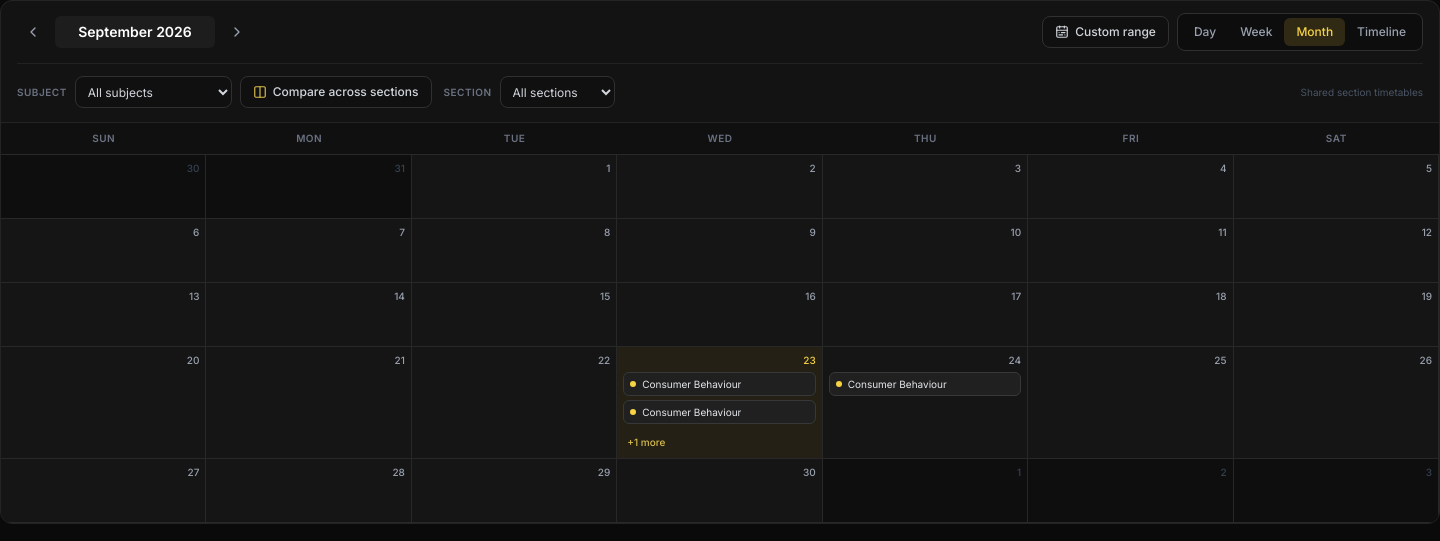
Test case: E2E Shared Academic Calendars: Frontend Test Suite › F11: UI States (Loading, Empty, Retry) › 11.2: Empty state displays appropriate message when no sessions exist for selected section
// Select Section H where no events exist
Step 1. Select "Section H" in the dropdown labelled "Section" → (557, 92), box [500,76,615,108]
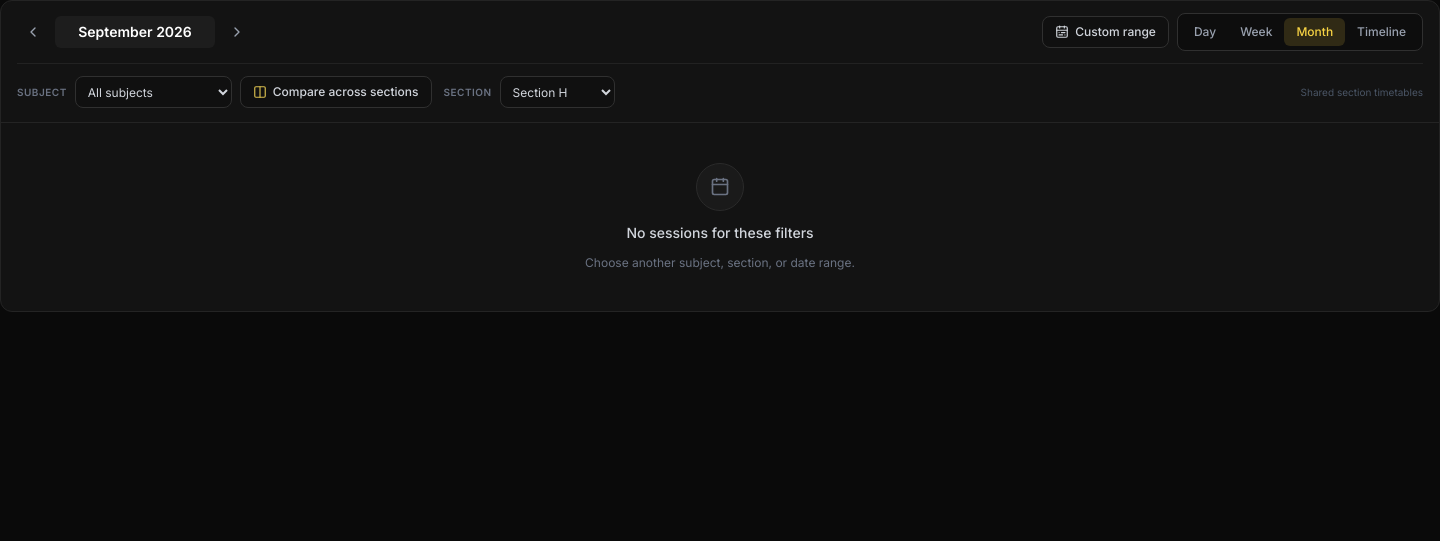
Expected: the text "No sessions for these filters" is shown, [626,223,814,243]
